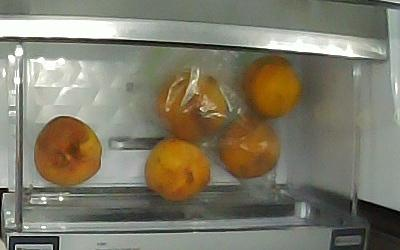peach: (34, 116, 102, 185), (143, 137, 211, 201), (241, 55, 300, 120)
peach_vinyl: (156, 70, 228, 142), (219, 115, 281, 179)
